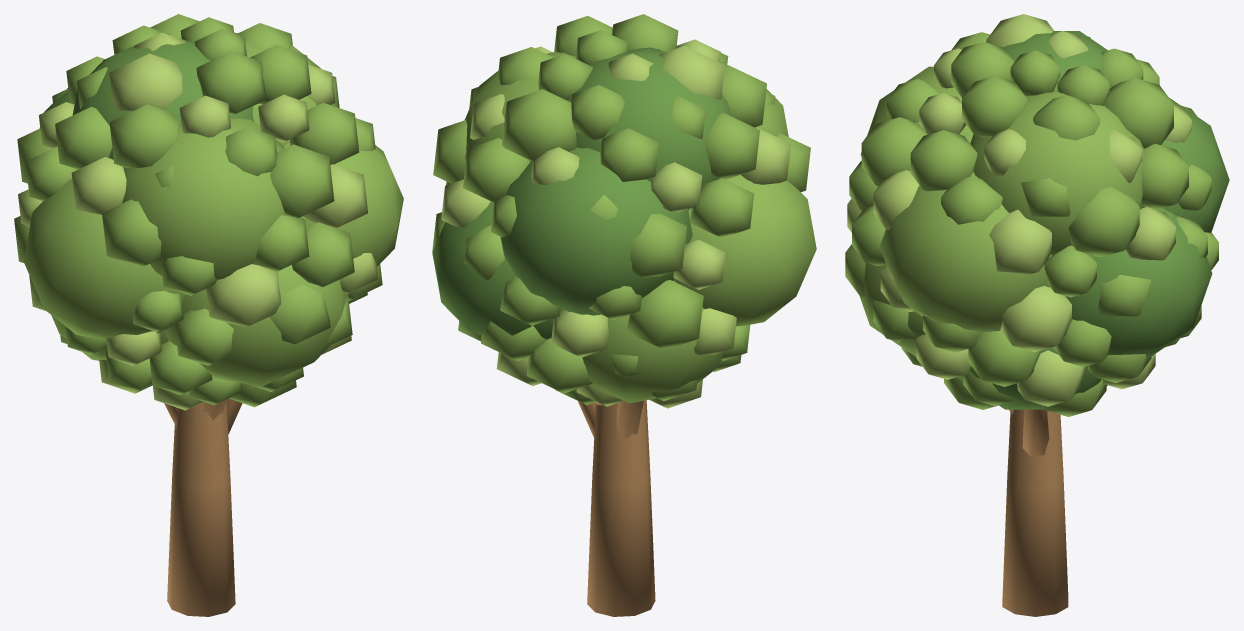
The model's file is prop_tree.glb.
3 renders of one model, left to right at view 1: azimuth 30°, elevation 25°; view 2: azimuth 150°, elevation 25°; view 3: azimuth 270°, elevation 25°, orthographic.
Visible parts, largest first — view 1: structure.004; view 2: structure.004; view 3: structure.004.
Part boxes in pixels (left/top/right/bottom): structure.004: left=14, top=14, right=403, bottom=616; structure.004: left=432, top=14, right=816, bottom=616; structure.004: left=845, top=14, right=1229, bottom=616.
Size of the model in its own units: 2.6 by 4.2 by 2.6.
